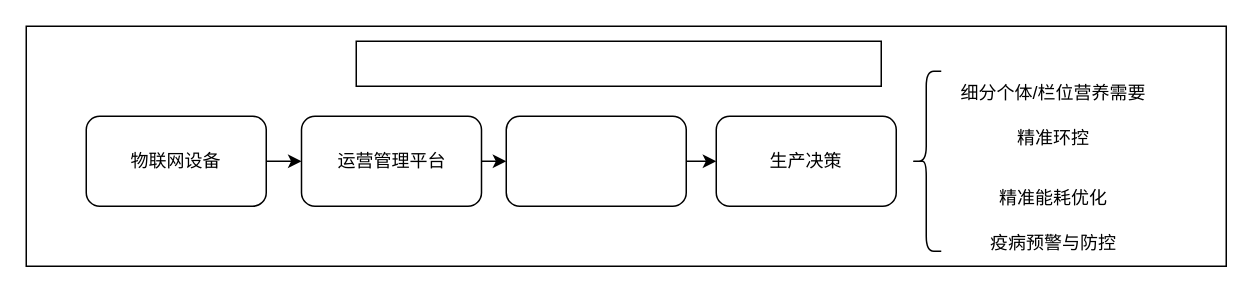
The diagram is 1253 pixels wide and 293 high, and some of its shapes have lost their labels. The centre of each missing label's shape, as x and y in pixels:
物联网数据回流: [618,63]
算法模型: [595,160]
